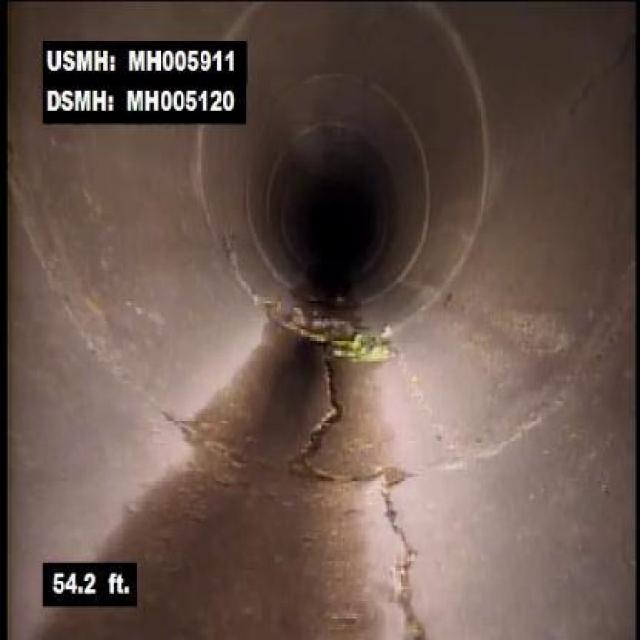Crack: (363, 449, 442, 637), (282, 354, 358, 498), (568, 9, 637, 137)
